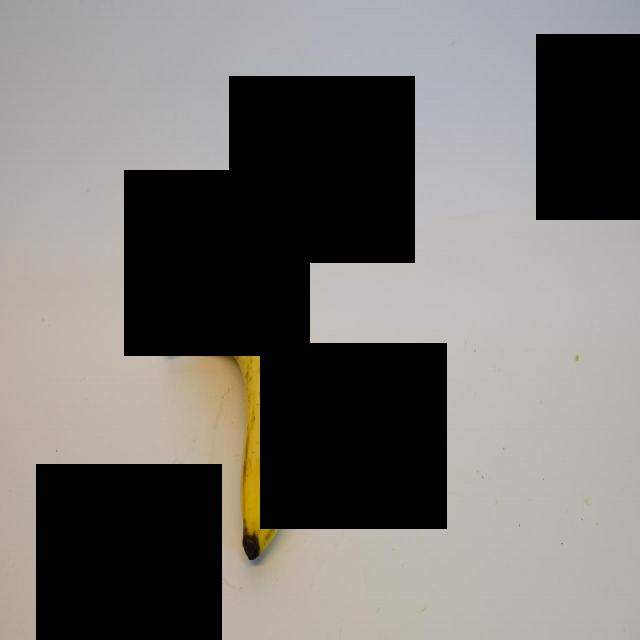banana: (160, 263, 303, 557)
